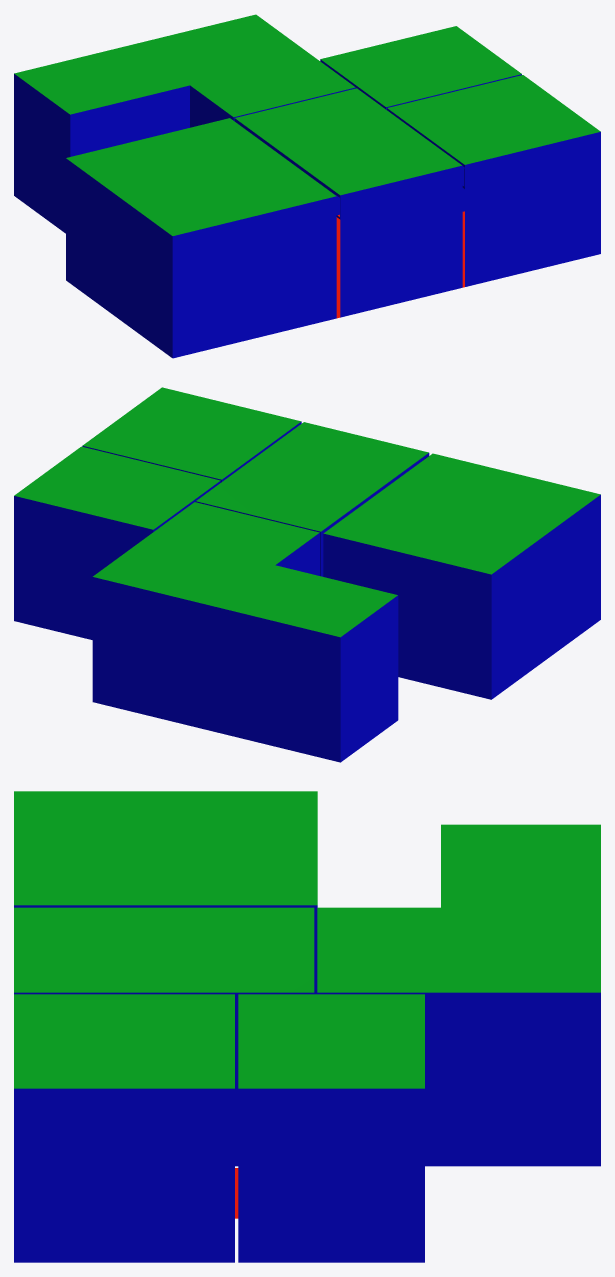
Rendered from Stock_Room_Building.fbx.
3 renders of one model, top to bottom at view 1: azimuth 30°, elevation 25°; view 2: azimuth 150°, elevation 25°; view 3: azimuth 270°, elevation 25°, orthographic. The views are drawn at different scales.
Visible parts, largest first — view 1: Stock_Room_Building; view 2: Stock_Room_Building; view 3: Stock_Room_Building.
Part boxes in pixels (<box>): Stock_Room_Building: <box>14,14,600,358</box>; Stock_Room_Building: <box>14,387,600,762</box>; Stock_Room_Building: <box>14,791,600,1262</box>.
Bounding box in the file's own units: 3203 × 874 × 2674.
